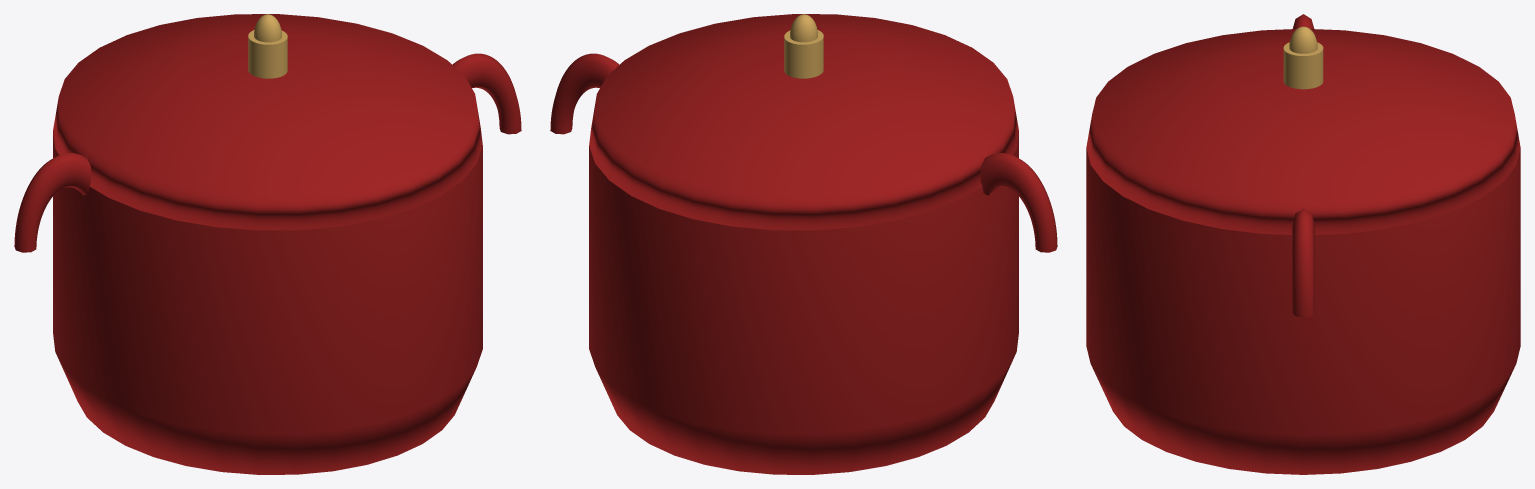
Rendered from wp-cocotte.glb.
3 views of the same model, side by side, from view 1: azimuth 30°, elevation 25°; view 2: azimuth 150°, elevation 25°; view 3: azimuth 270°, elevation 25° (orthographic). The views are drawn at different scales.
Visible parts, largest first — view 1: wp-cocotte; view 2: wp-cocotte; view 3: wp-cocotte.
Boxes of the visible parts, left/top/right/bottom form: wp-cocotte: left=14, top=14, right=521, bottom=474; wp-cocotte: left=550, top=14, right=1057, bottom=474; wp-cocotte: left=1086, top=14, right=1520, bottom=474.
Size of the model in its own units: 0.42 by 0.3 by 0.32.
